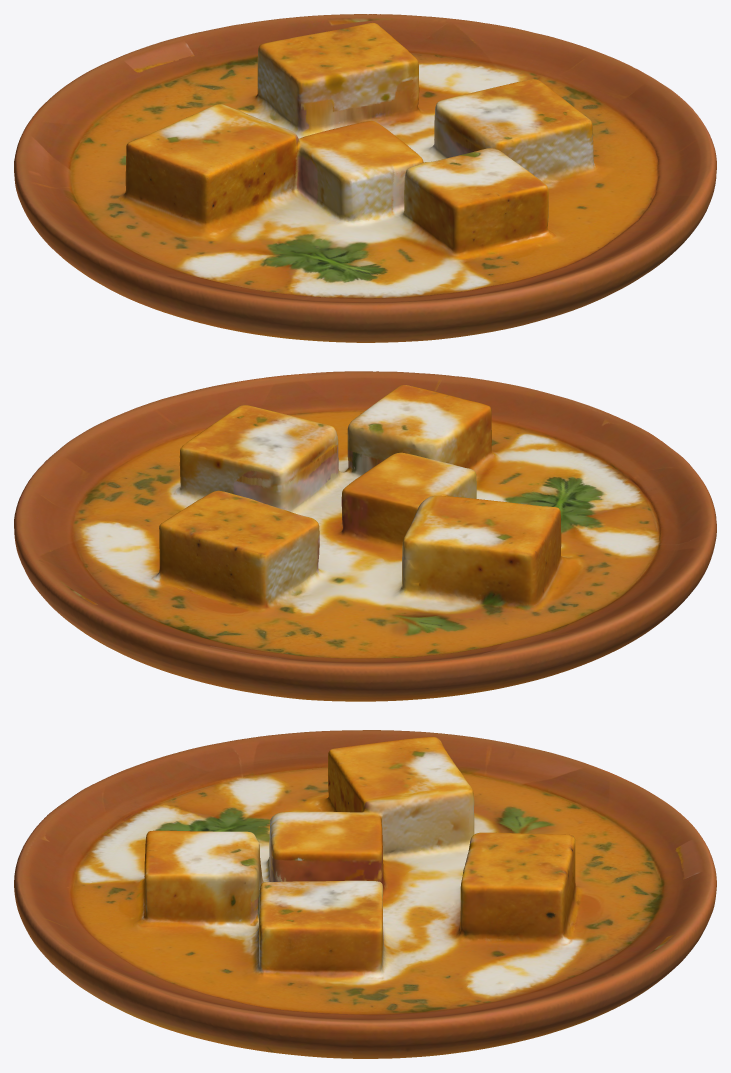
Rendered from Paneer-compressed.glb.
3 views of the same model, one above another, from view 1: azimuth 30°, elevation 25°; view 2: azimuth 150°, elevation 25°; view 3: azimuth 270°, elevation 25° (orthographic).
Size of the model in its own units: 2 by 0.3684 by 2.
1 material, 1 textured.
